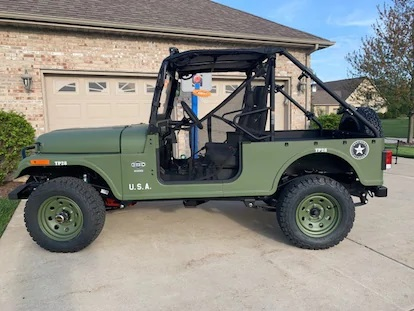Vehicle: (7, 46, 396, 254)
